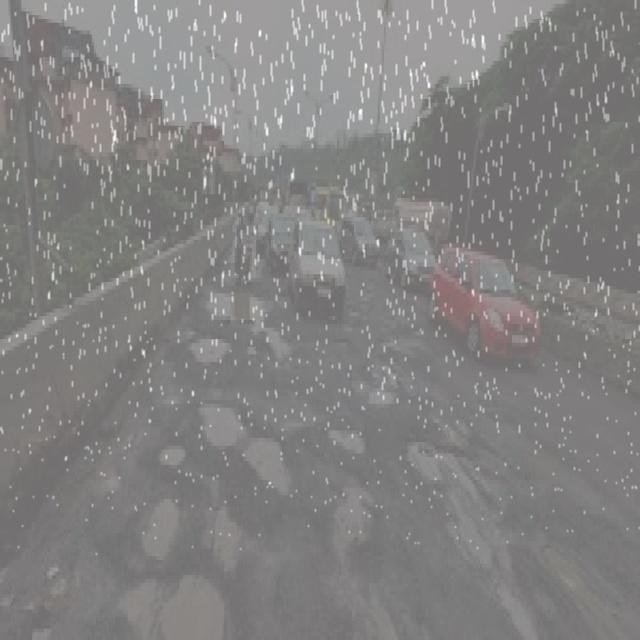Pothole: (400, 442, 554, 640), (106, 568, 236, 640), (319, 472, 380, 559), (198, 486, 254, 576), (236, 432, 302, 502), (200, 282, 290, 326), (137, 489, 188, 560), (192, 398, 244, 454), (244, 326, 306, 368), (184, 327, 230, 368), (326, 423, 370, 458), (155, 441, 190, 471), (368, 384, 400, 406)
